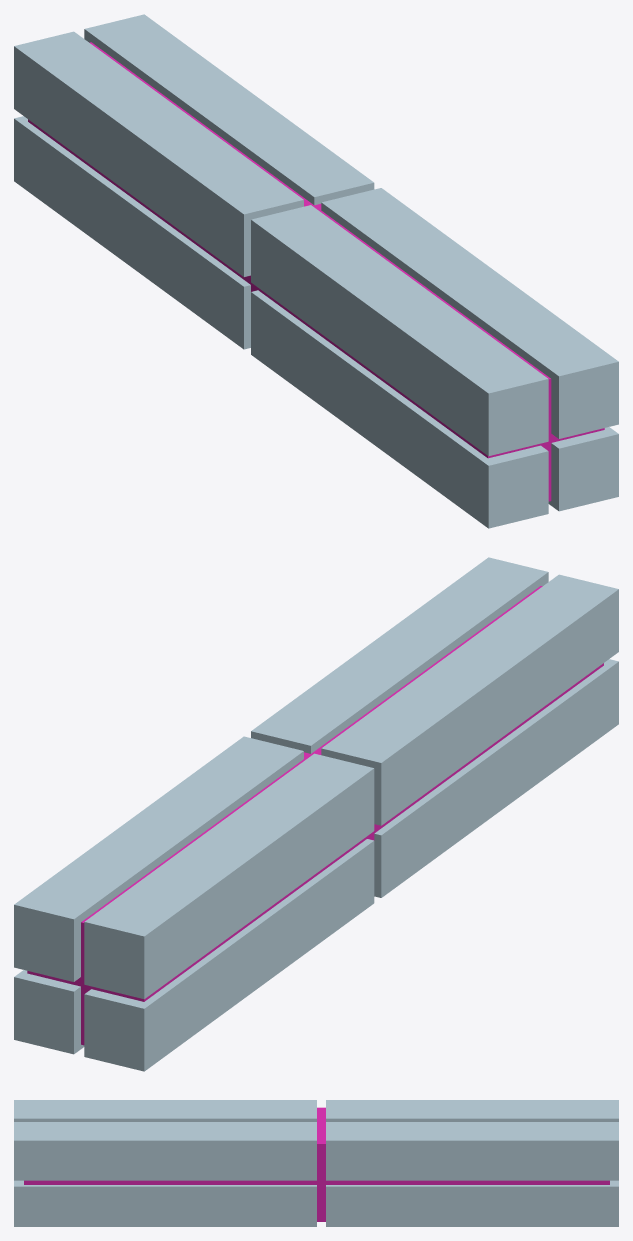
The model's file is block03.fbx.
The picture shows the model from 3 angles, top to bottom: view 1: azimuth 30°, elevation 25°; view 2: azimuth 150°, elevation 25°; view 3: azimuth 270°, elevation 25°; orthographic projection. The views are drawn at different scales.
Parts seen in each view (by area): view 1: Cube; view 2: Cube; view 3: Cube.
Part boxes in pixels (x1=…): Cube: x1=14, y1=14, x2=618, y2=528; Cube: x1=14, y1=557, x2=618, y2=1071; Cube: x1=14, y1=1100, x2=618, y2=1226.
Size of the model in its own units: 1.54 by 1.53 by 9.74.
